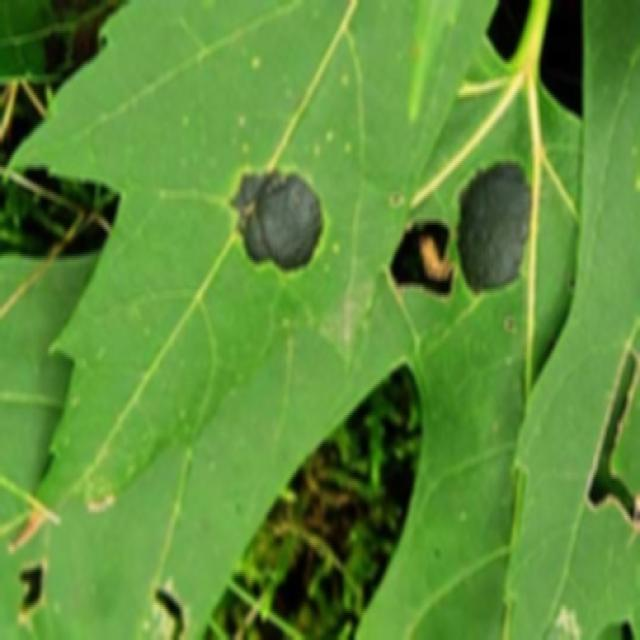Tar_Spot: (207, 97, 560, 316)
